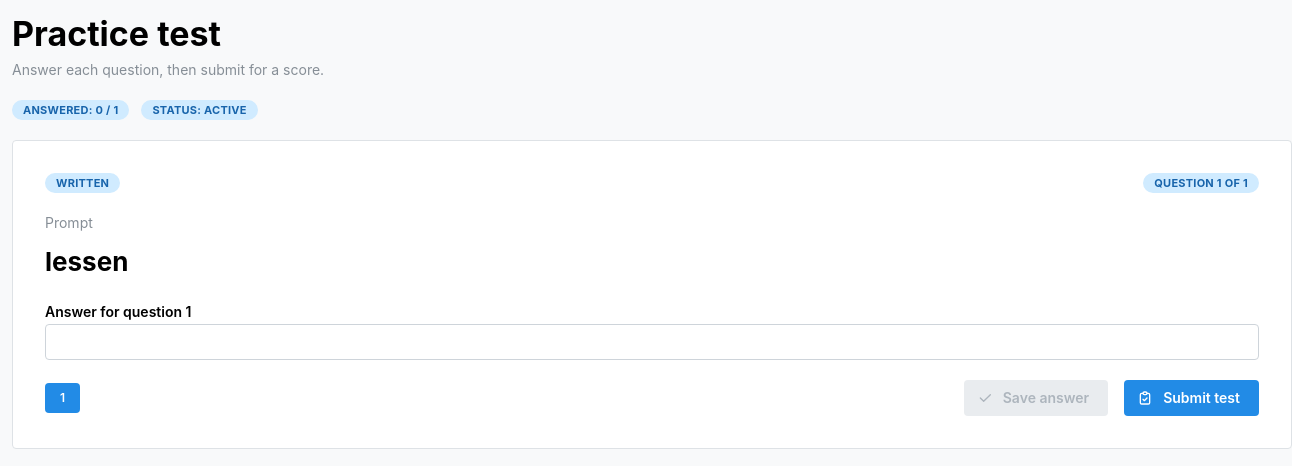
Scenario: practice test mode › saves the current typed answer before direct submit
This screenshot has width=1292, height=466.
Check: the heading "lessen" is shown, box [45, 246, 128, 277]
Type "abate" into the field labelled "Answer for question 1" at coordinates (652, 342), box [45, 324, 1259, 360]
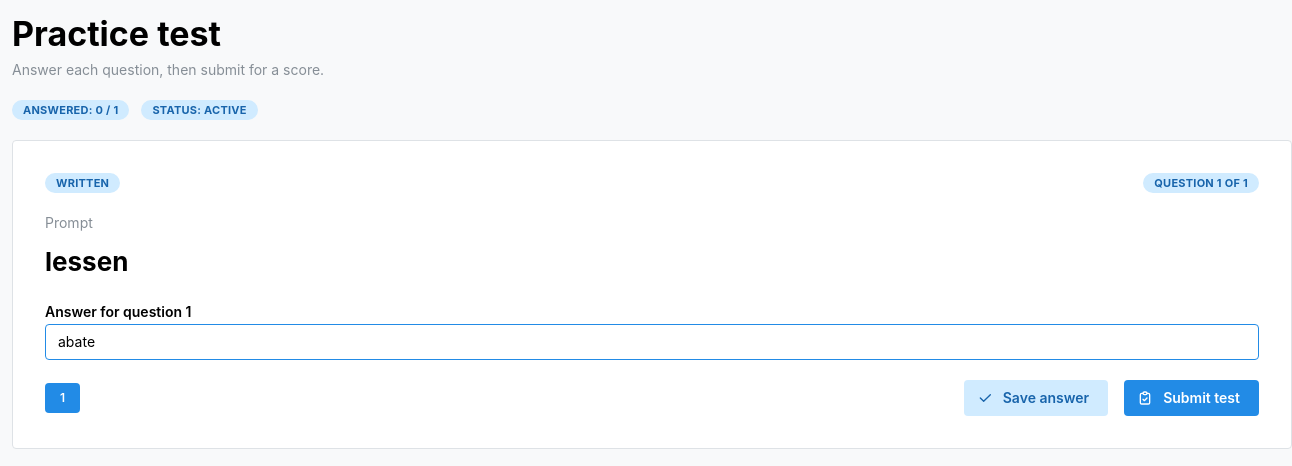
Click the button "Submit test" at coordinates (1192, 398), box [1124, 380, 1259, 416]
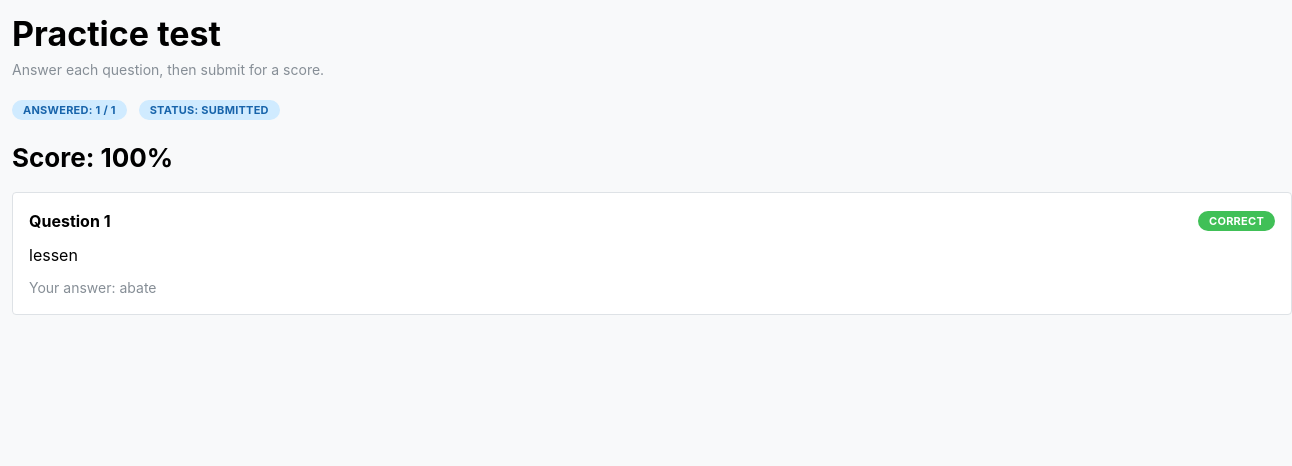
Check: the heading "Score: 100%" is shown, box [12, 142, 173, 174]
